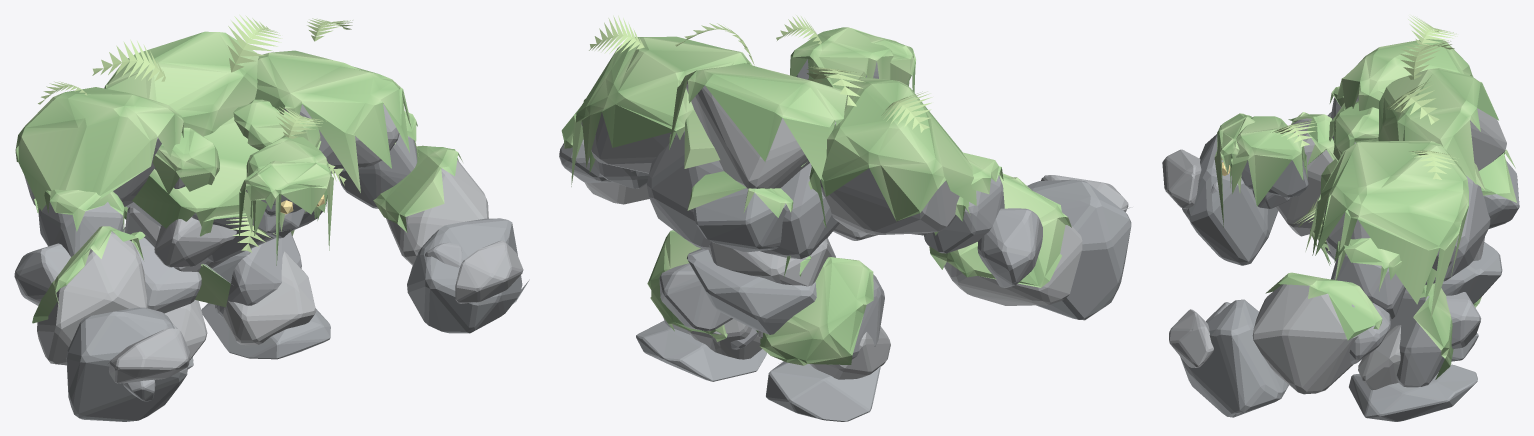
File: moss-golem-3d.glb
The picture shows the model from 3 angles, left to right: view 1: azimuth 30°, elevation 25°; view 2: azimuth 150°, elevation 25°; view 3: azimuth 270°, elevation 25°; orthographic projection. The views are drawn at different scales.
Visible parts, largest first — view 1: ChestRock, UpperArmR, UpperArmL, FistR, ForearmR, FistL, HeadRock, ForearmL, ShinL, ThighL, FootL, ThighR (+2 smaller); view 2: ChestRock, UpperArmR, UpperArmL, ForearmR, ThighR, PelvisRock, FistR, HeadRock, FootR, FootL, ThighL, ForearmL (+2 smaller); view 3: UpperArmL, ChestRock, ForearmL, FistL, FistR, HeadRock, UpperArmR, ThighL, FootL, PelvisRock, ForearmR, ShinL.
Part boxes in pixels (left/top/right/bottom): ChestRock: left=92, top=14, right=346, bottom=307; UpperArmR: left=15, top=81, right=183, bottom=256; UpperArmL: left=255, top=18, right=419, bottom=208; FistR: left=66, top=307, right=190, bottom=421; ForearmR: left=14, top=226, right=147, bottom=365; FistL: left=407, top=218, right=529, bottom=333; HeadRock: left=239, top=107, right=333, bottom=265; ForearmL: left=373, top=145, right=488, bottom=265; ShinL: left=222, top=251, right=316, bottom=345; ThighL: left=215, top=230, right=301, bottom=317; FootL: left=201, top=303, right=330, bottom=359; ThighR: left=131, top=231, right=201, bottom=313; ChestRock: left=647, top=23, right=877, bottom=286; UpperArmR: left=808, top=77, right=1004, bottom=253; UpperArmL: left=571, top=15, right=752, bottom=188; ForearmR: left=929, top=173, right=1082, bottom=305; ThighR: left=756, top=257, right=884, bottom=365; PelvisRock: left=659, top=248, right=816, bottom=338; FistR: left=1027, top=175, right=1132, bottom=320; HeadRock: left=776, top=15, right=915, bottom=92; FootR: left=766, top=361, right=880, bottom=421; FootL: left=636, top=320, right=766, bottom=381; ThighL: left=647, top=230, right=758, bottom=349; ForearmL: left=559, top=107, right=649, bottom=204; UpperArmL: left=1305, top=140, right=1468, bottom=321; ChestRock: left=1294, top=40, right=1519, bottom=284; ForearmL: left=1252, top=272, right=1390, bottom=394; FistL: left=1169, top=299, right=1288, bottom=417; FistR: left=1162, top=134, right=1278, bottom=265; HeadRock: left=1214, top=113, right=1318, bottom=227; UpperArmR: left=1329, top=15, right=1473, bottom=141; ThighL: left=1389, top=283, right=1453, bottom=387; FootL: left=1349, top=364, right=1477, bottom=421; PelvisRock: left=1441, top=242, right=1502, bottom=348; ForearmR: left=1276, top=112, right=1335, bottom=236; ShinL: left=1358, top=325, right=1400, bottom=390.
Size of the model in its own units: 2.8 by 1.87 by 1.89.
